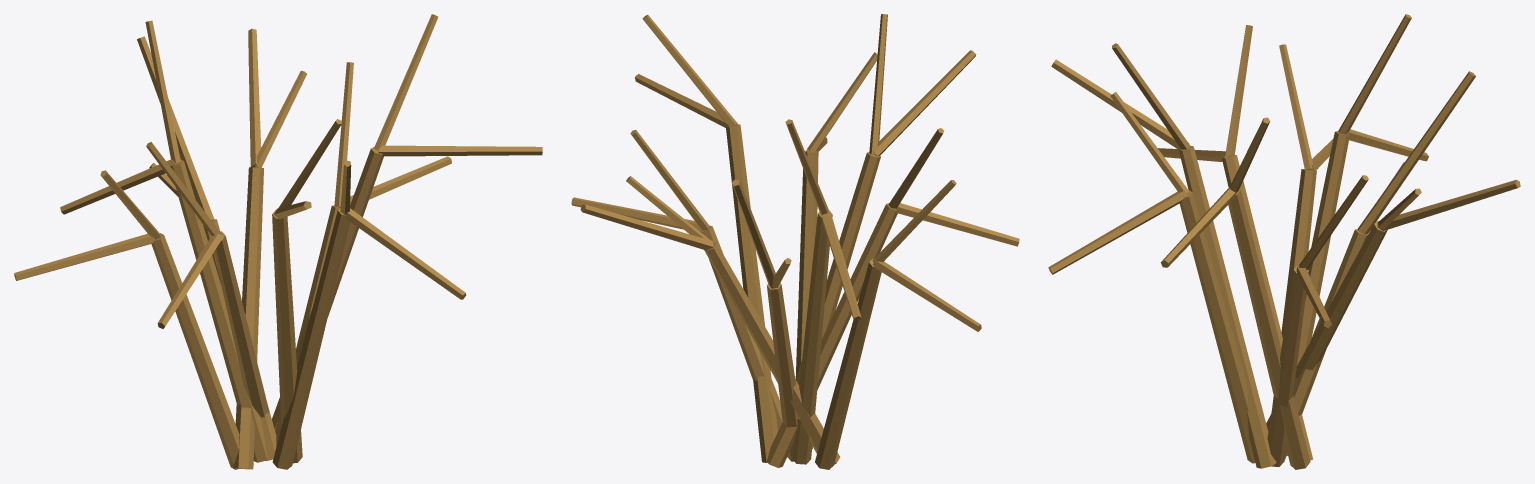
File: old_klim_scrub_amber.glb
3 views of the same model, side by side, from view 1: azimuth 30°, elevation 25°; view 2: azimuth 150°, elevation 25°; view 3: azimuth 270°, elevation 25° (orthographic). The views are drawn at different scales.
Parts seen in each view (by area): view 1: old_klim_scrub_amber_old_klim_dry_amber_scrub_ground_detail; view 2: old_klim_scrub_amber_old_klim_dry_amber_scrub_ground_detail; view 3: old_klim_scrub_amber_old_klim_dry_amber_scrub_ground_detail.
Part boxes in pixels (box(x1,y1,x2,y2)): old_klim_scrub_amber_old_klim_dry_amber_scrub_ground_detail: box(14, 14, 542, 469); old_klim_scrub_amber_old_klim_dry_amber_scrub_ground_detail: box(571, 14, 1019, 469); old_klim_scrub_amber_old_klim_dry_amber_scrub_ground_detail: box(1048, 14, 1520, 469).
Bounding box in the file's own units: 1.15 × 1.03 × 1.04.
